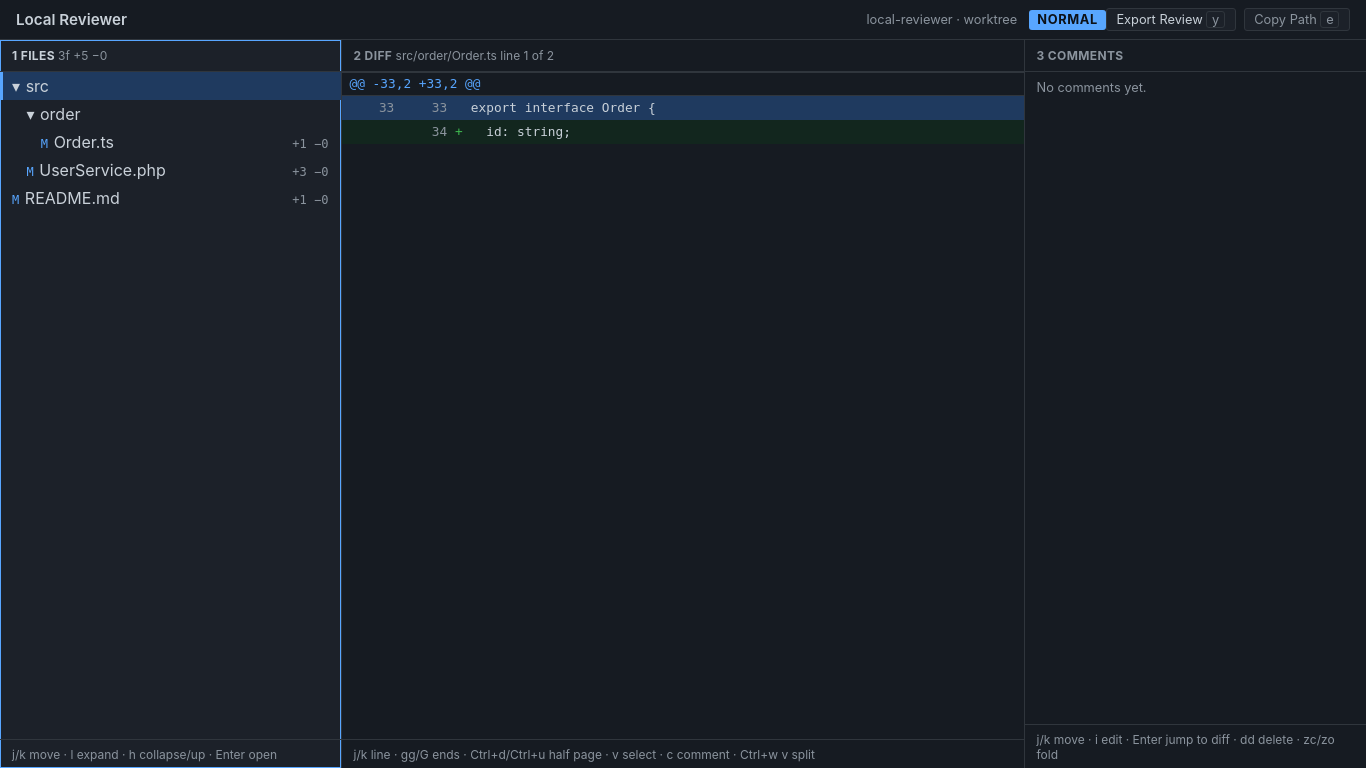
Scenario: Export Review writes the Markdown and shows where it landed › TS-42: a review with no comments is exported all the same
Check: the element "1 FILES" is shown, box [0,40,342,767]
Step 1. Click the button "Export Review y" → {"x": 1171, "y": 20}, box [1106,8,1236,31]
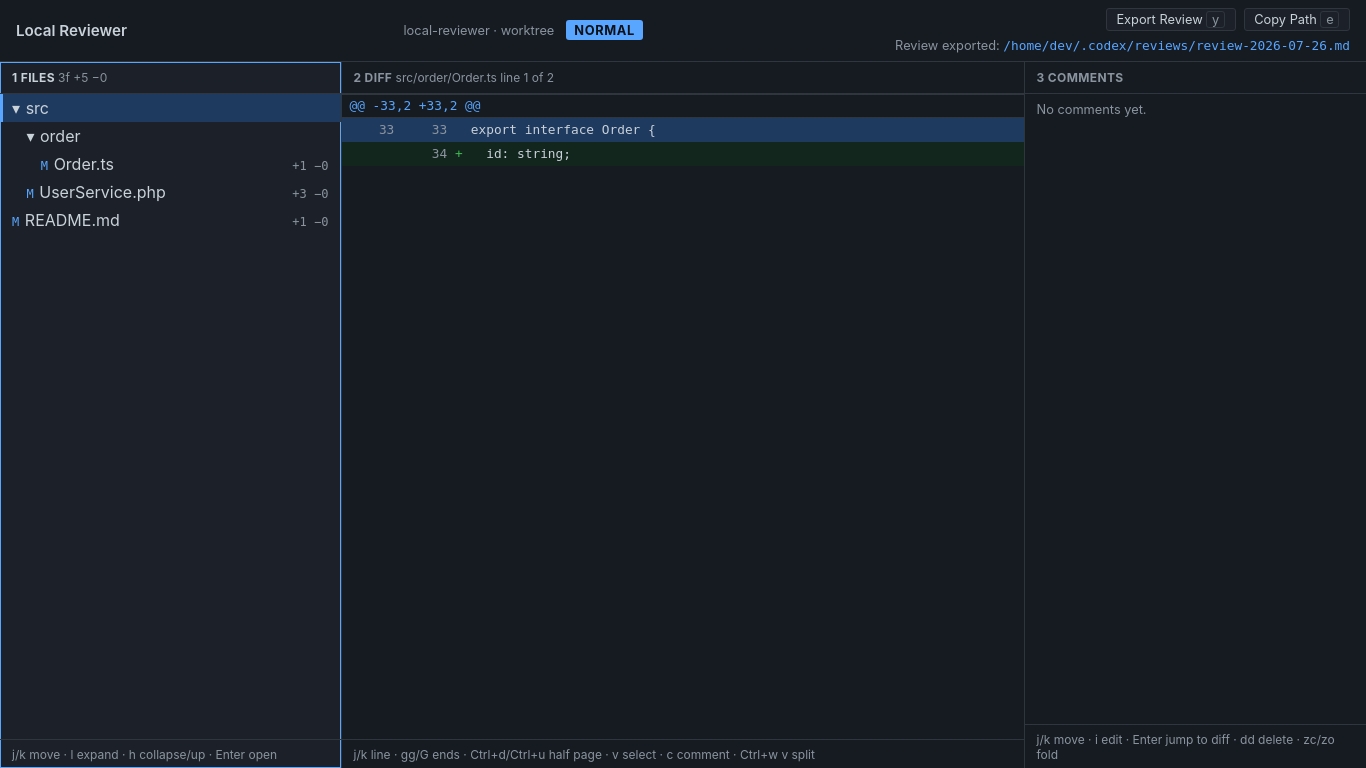
Check: the text "/home/dev/.codex/reviews/review-2026-07-26.md" is shown, box [1003,38,1350,53]
